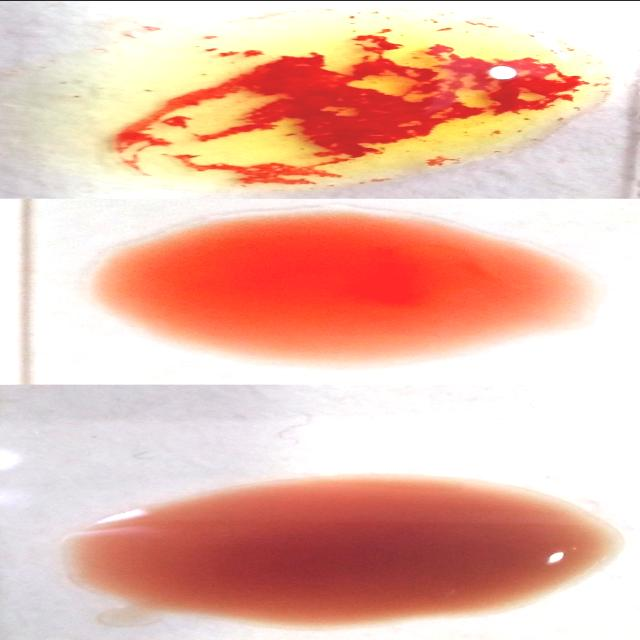B: (64, 9, 626, 188)
